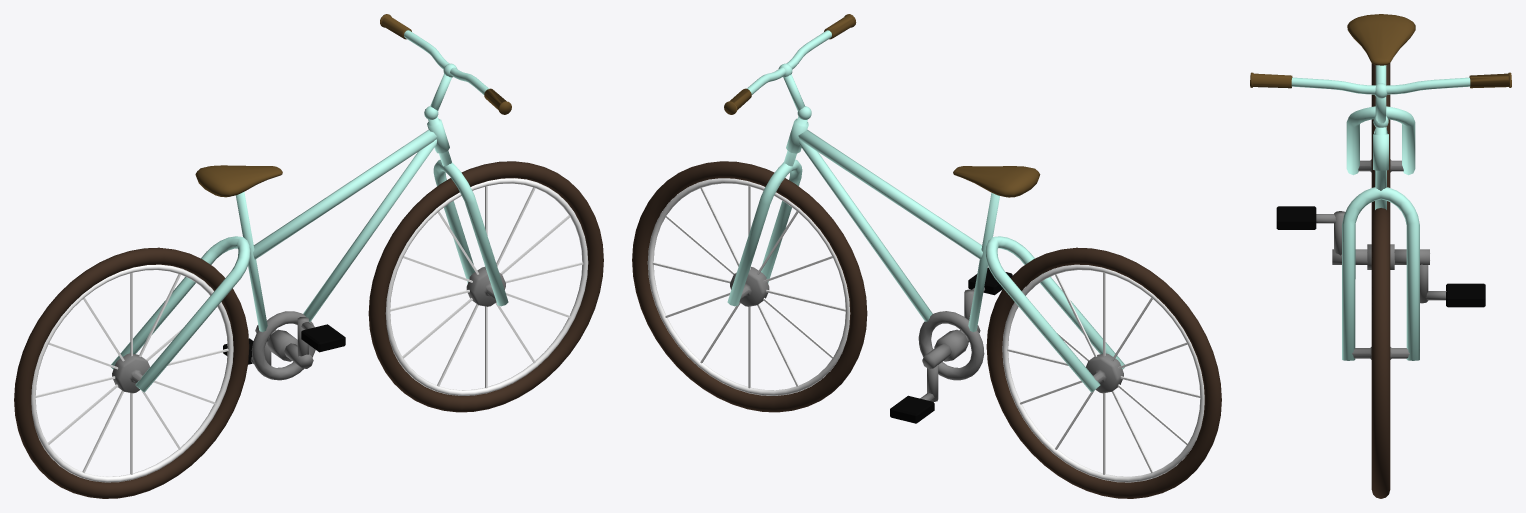
The model's file is BicycleDecimated.glb.
3 views of the same model, side by side, from view 1: azimuth 30°, elevation 25°; view 2: azimuth 150°, elevation 25°; view 3: azimuth 270°, elevation 25° (orthographic). The views are drawn at different scales.
Visible parts, largest first — view 1: BackWheel, FrontWheel, Frame, HandleBar, PedalRotor, RightPedal; view 2: BackWheel, FrontWheel, Frame, HandleBar, PedalRotor, LeftPedal; view 3: HandleBar, FrontWheel, Frame, PedalRotor, BackWheel, LeftPedal, RightPedal.
Part boxes in pixels (x1,y1,x2,y2): BackWheel: (14, 247, 249, 498); FrontWheel: (368, 161, 603, 412); Frame: (111, 129, 436, 392); HandleBar: (380, 14, 511, 306); PedalRotor: (250, 317, 314, 368); RightPedal: (301, 324, 345, 352); BackWheel: (986, 247, 1221, 498); FrontWheel: (632, 161, 867, 412); Frame: (798, 130, 1124, 392); HandleBar: (724, 14, 856, 306); PedalRotor: (920, 287, 984, 401); LeftPedal: (890, 395, 934, 423); HandleBar: (1250, 72, 1511, 360); FrontWheel: (1352, 208, 1409, 498); Frame: (1346, 14, 1415, 209); PedalRotor: (1316, 211, 1446, 303); BackWheel: (1358, 63, 1403, 216); LeftPedal: (1446, 283, 1485, 307); RightPedal: (1276, 206, 1316, 229).
Bounding box in the file's own units: 6.95 × 4.07 × 2.47.
Materials: 1 (1 with a texture image).
